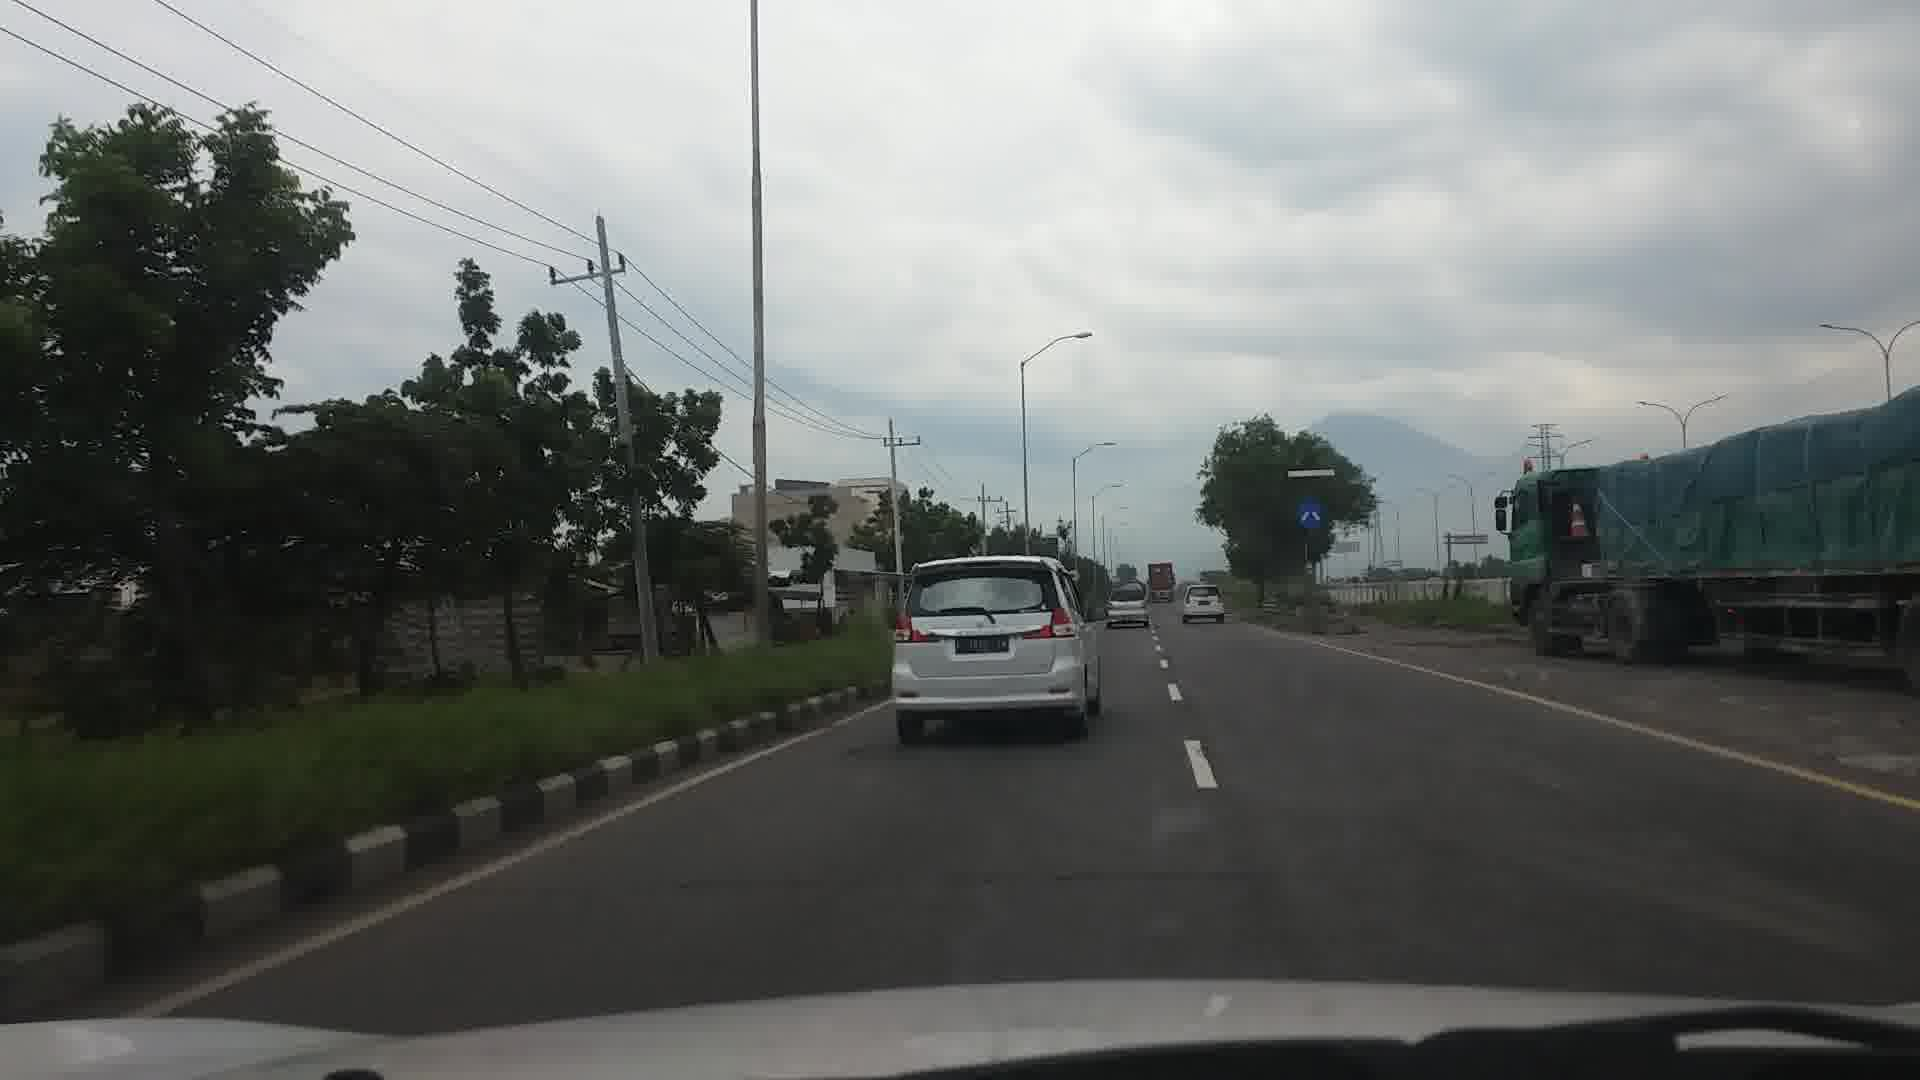plate_positive: (955, 638, 1009, 654)
